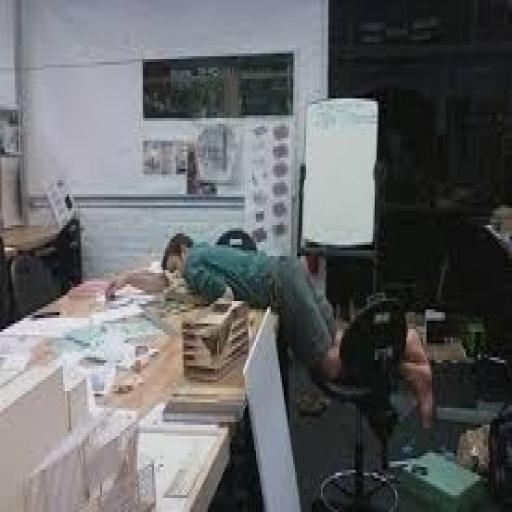sleeping: (158, 225, 438, 439)
